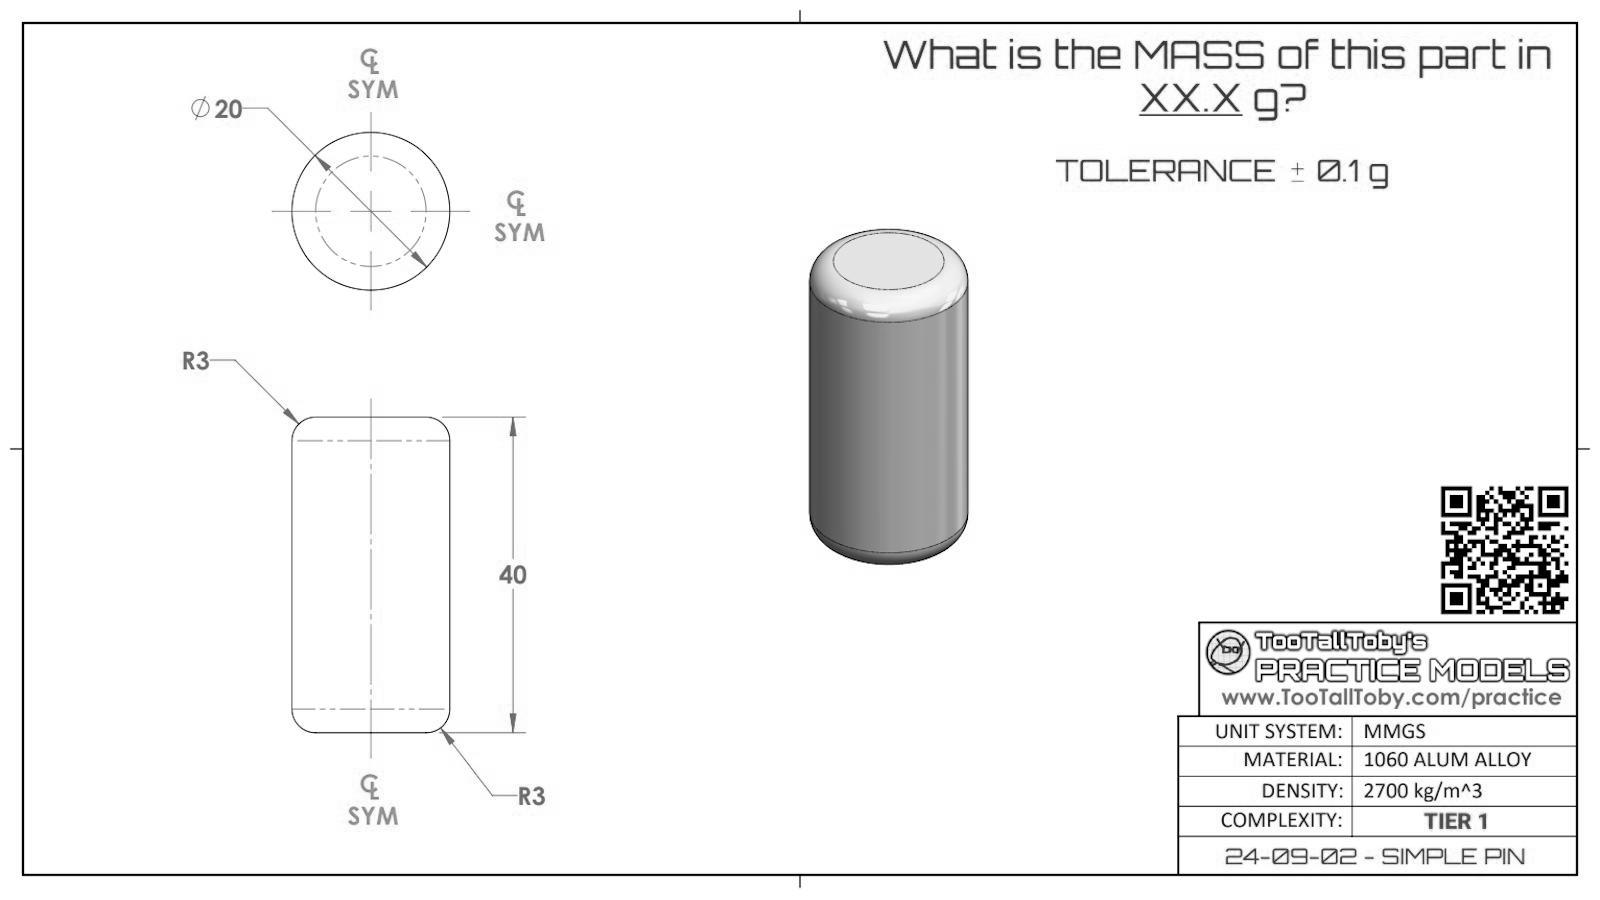-: (1290, 162, 1307, 184)
0: (1316, 158, 1341, 182), (229, 97, 242, 121), (514, 565, 526, 584), (1398, 781, 1408, 799), (1387, 782, 1397, 798)
1: (1349, 159, 1359, 184)
1060AlumAlloy: (1365, 749, 1532, 769)
2: (215, 98, 229, 119), (1364, 781, 1375, 799)
3: (196, 351, 210, 370), (532, 786, 544, 807)
4: (498, 565, 513, 585)
7: (1375, 782, 1386, 799)
Coma: (1203, 105, 1210, 114), (1342, 177, 1347, 184)
Density: (1263, 780, 1345, 800)
Diameter: (189, 96, 212, 121)
MMGS: (1363, 722, 1427, 741)
Material: (1244, 751, 1342, 770)
Radius: (181, 351, 196, 371), (518, 786, 531, 807)
SYM: (493, 221, 546, 243), (347, 79, 398, 100), (347, 807, 399, 826)
Symmetry: (507, 189, 529, 219), (358, 47, 380, 75), (360, 774, 380, 801)
UnitSystem: (1214, 722, 1343, 740)
X: (1138, 80, 1168, 113), (1170, 82, 1201, 113), (1212, 82, 1241, 112)
grams: (1254, 87, 1279, 122), (1367, 163, 1388, 189)
